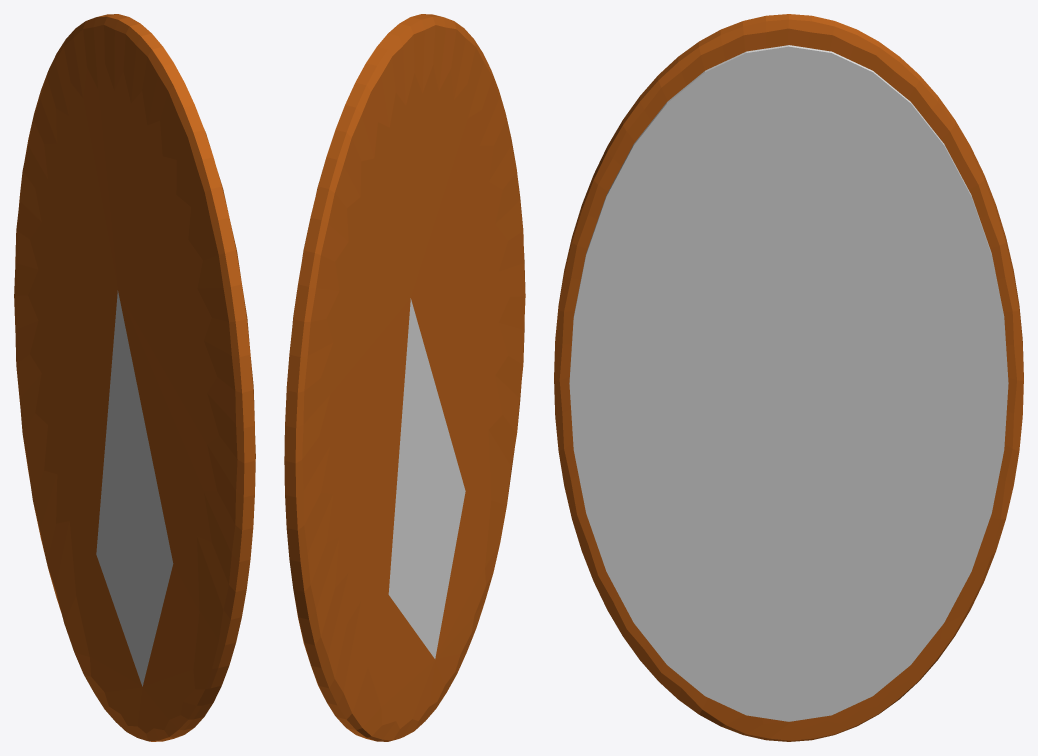
Rendered from mirror_2_break.fbx.
3 renders of one model, left to right at view 1: azimuth 30°, elevation 25°; view 2: azimuth 150°, elevation 25°; view 3: azimuth 270°, elevation 25°, orthographic. The views are drawn at different scales.
Parts seen in each view (by area): view 1: RAMA, GLASS; view 2: RAMA, GLASS; view 3: GLASS, RAMA.
Boxes of the visible parts, box(x1,y1,x2,y2) form: RAMA: box(14, 14, 255, 741); GLASS: box(96, 290, 173, 686); RAMA: box(284, 14, 525, 741); GLASS: box(388, 298, 465, 658); GLASS: box(569, 45, 1008, 721); RAMA: box(554, 14, 1023, 741).
Size of the model in its own units: 12.87 by 363 by 214.
